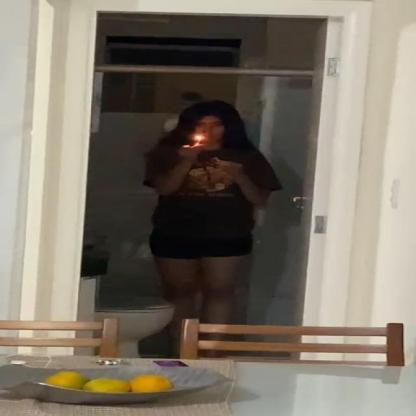fire: (194, 132, 204, 144)
